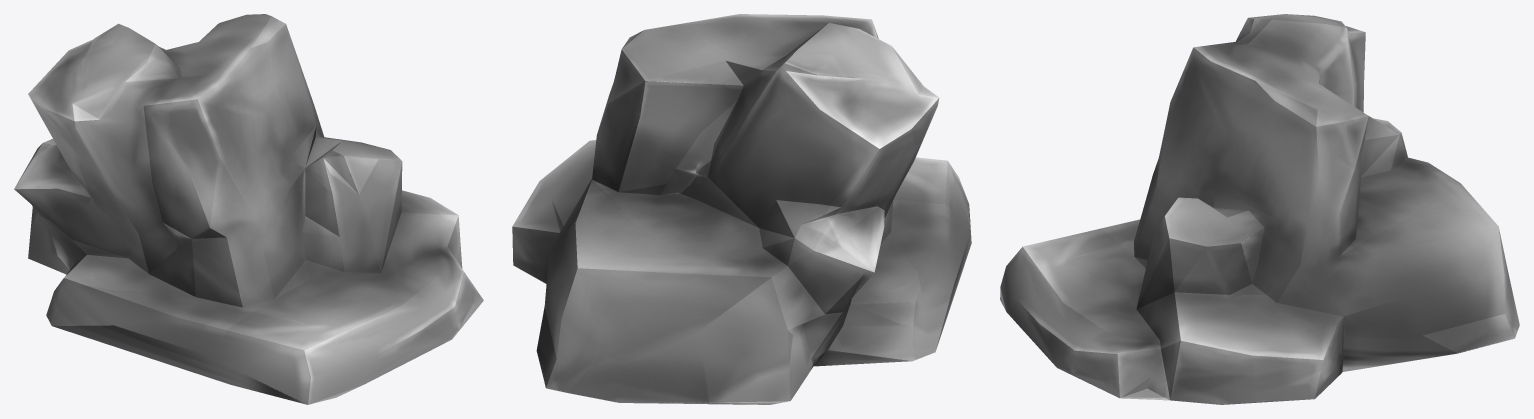
File: roka2.fbx
The picture shows the model from 3 angles, left to right: view 1: azimuth 30°, elevation 25°; view 2: azimuth 150°, elevation 25°; view 3: azimuth 270°, elevation 25°; orthographic projection. The views are drawn at different scales.
Visible parts, largest first — view 1: roca1; view 2: roca1; view 3: roca1.
Part boxes in pixels (x1=…): roca1: x1=14, y1=14, x2=483, y2=404; roca1: x1=512, y1=14, x2=971, y2=404; roca1: x1=1000, y1=14, x2=1519, y2=404.
Bounding box in the file's own units: 221 × 152 × 275.
1 material, 1 textured.
